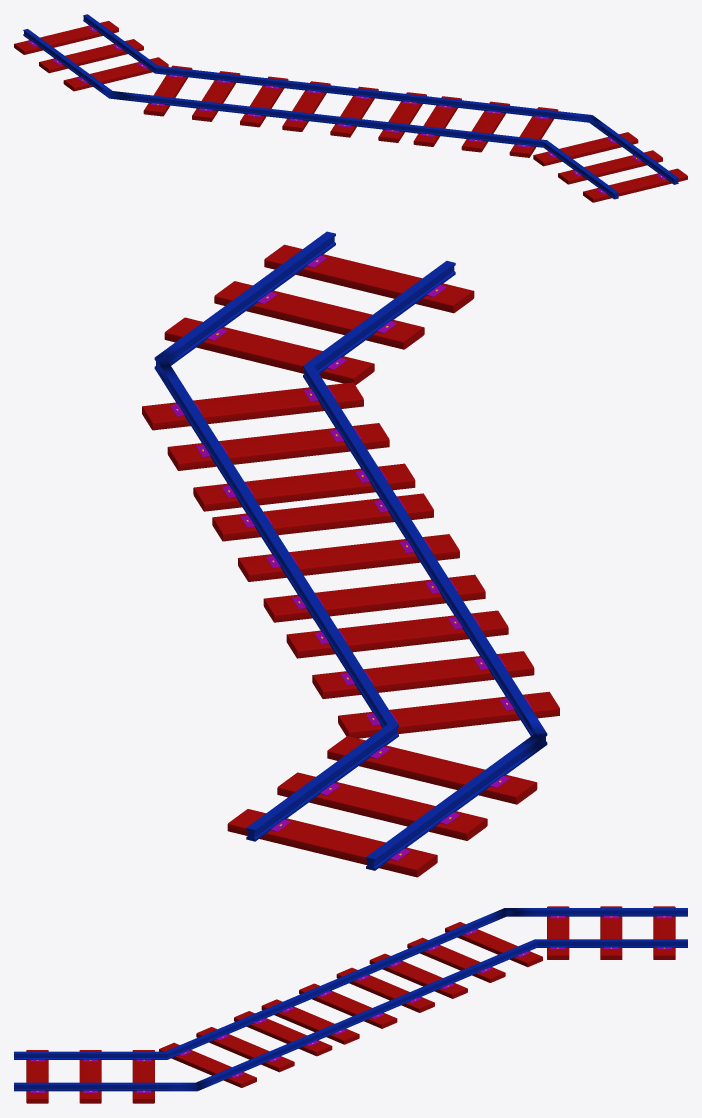
File: TracksTurn (5).fbx
The picture shows the model from 3 angles, top to bottom: view 1: azimuth 30°, elevation 25°; view 2: azimuth 150°, elevation 25°; view 3: azimuth 270°, elevation 25°; orthographic projection. The views are drawn at different scales.
Parts seen in each view (by area): view 1: polySurface64; view 2: polySurface64; view 3: polySurface64.
Part boxes in pixels (box(x1,y1,x2,y2)): polySurface64: box(14, 14, 687, 202); polySurface64: box(142, 231, 559, 877); polySurface64: box(14, 906, 687, 1103).
Bounding box in the file's own units: 1484 × 38.06 × 2193.
